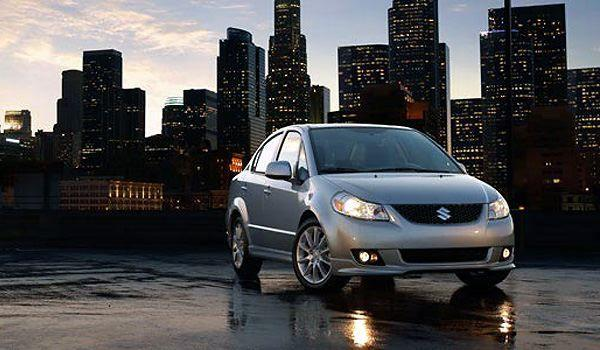suzuki: (434, 205, 453, 221)
